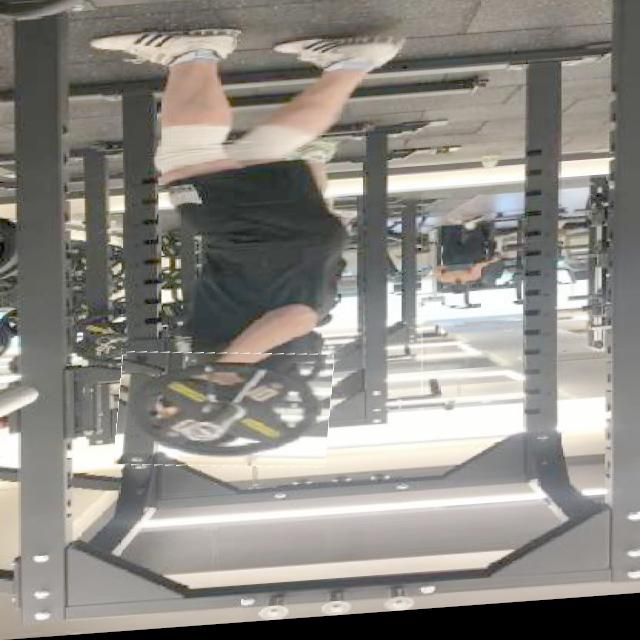barbell: (117, 347, 333, 481)
